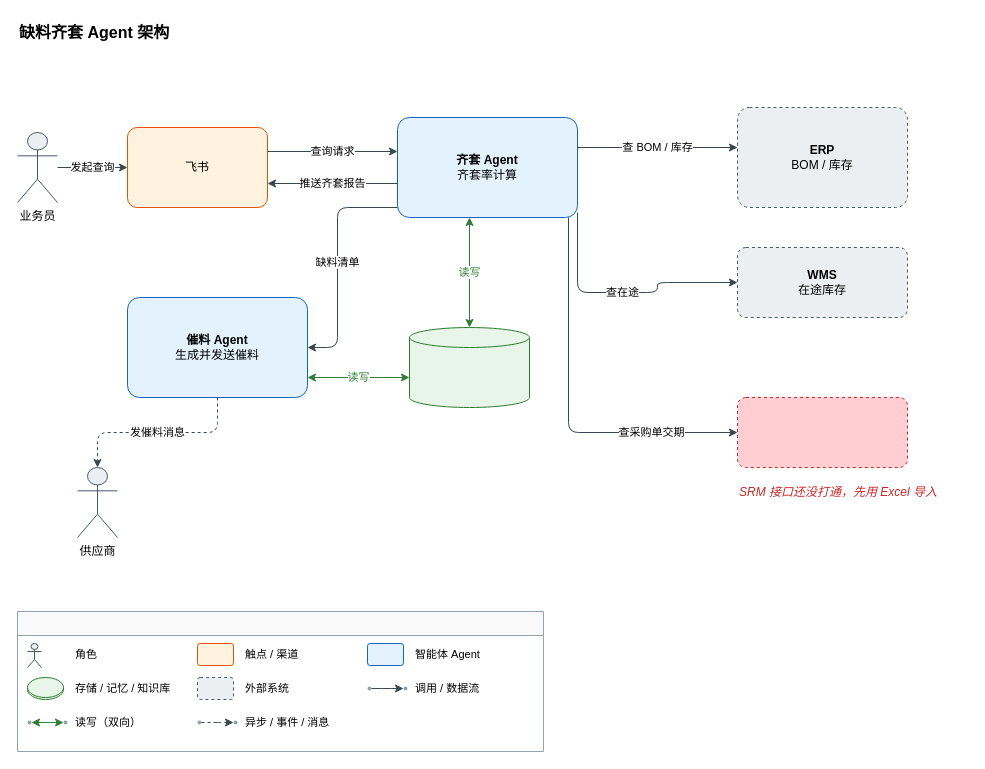
Some shapes in this 985 by 769 pixel diagram are drawn without their labels. The box of each missing label's shape, as (x1, y1, x2, y2) in pixels:
SRM 采购单交期: (736, 396, 908, 468)
共享记忆 物料历史催料记录: (408, 326, 530, 408)
图例: (16, 610, 544, 752)
